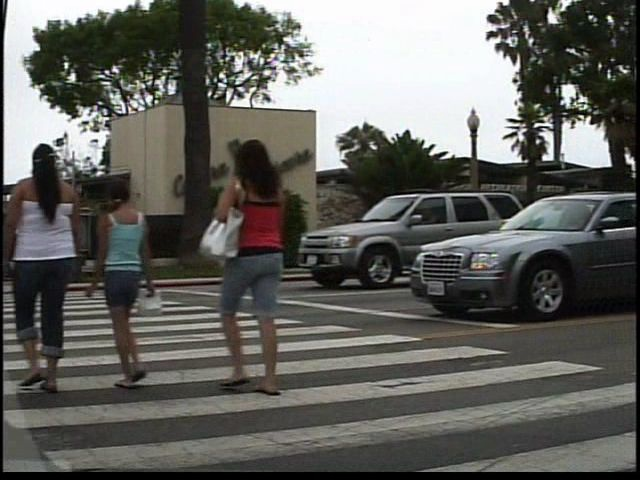person: (212, 136, 318, 404), (63, 141, 160, 401), (102, 176, 177, 401)
